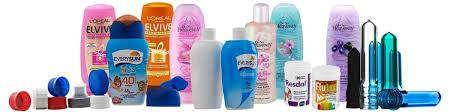Container for household chemicals: (4, 10, 450, 112)
